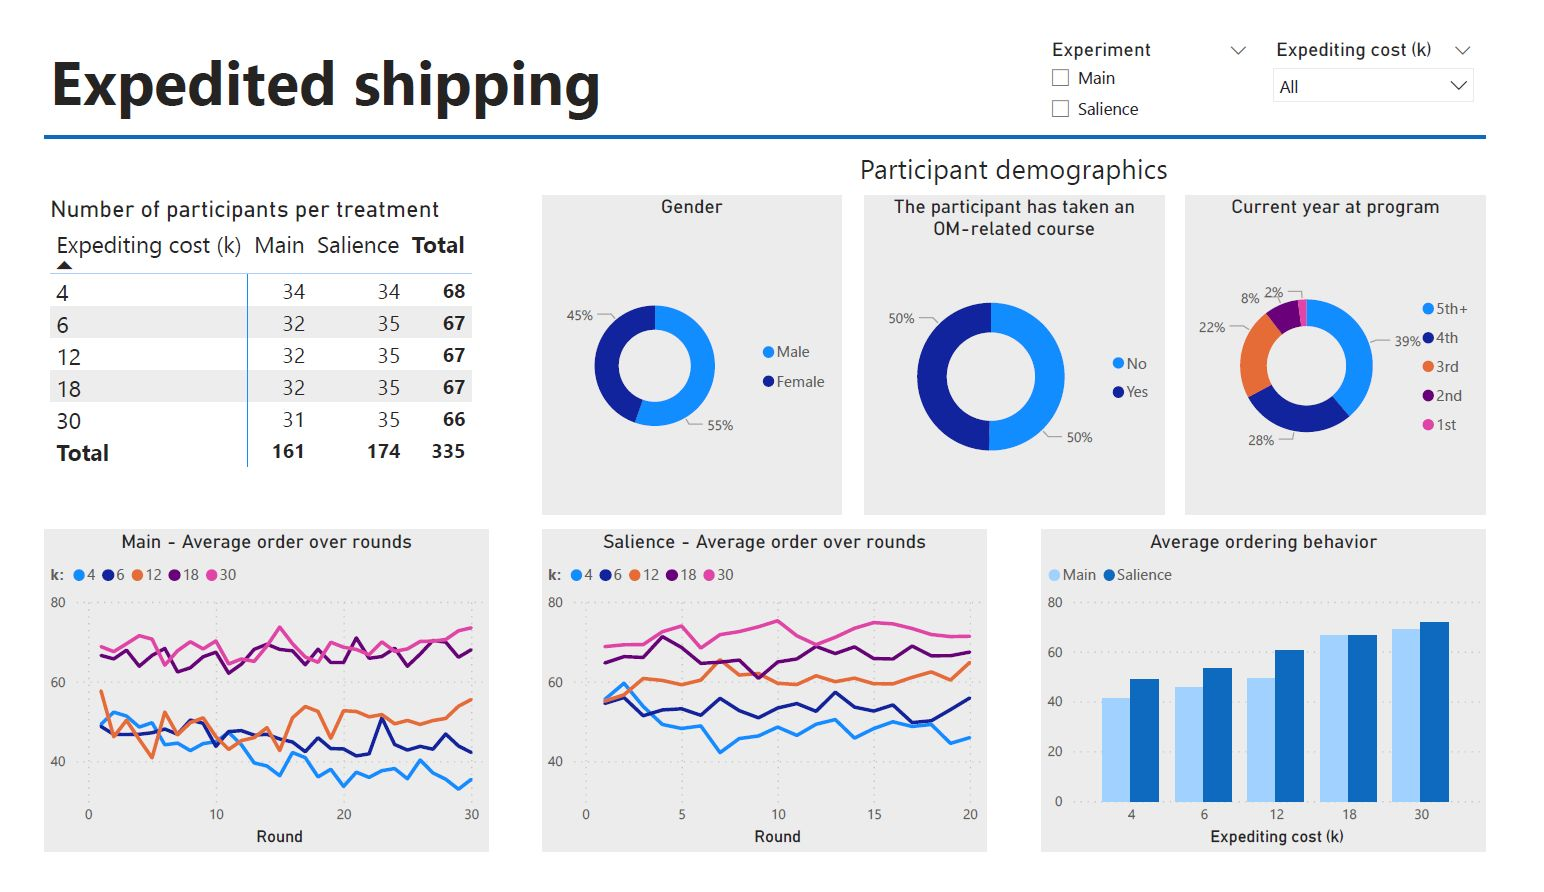

Layout of this report page (visuals, bound fields, positions):
{"tool":"powerbi","page":{"name":"Experiment","canvas":[1280,720],"ordinal":0},"visuals":[{"type":"clusteredColumnChart","title":"Average ordering behavior","fields":{"Category":["treatment.expediting_cost_r"],"Y":["Avg(behavior.order)"],"Series":["treatment.experiment"]},"box":[881.7,439.5,388.7,280.2],"z":0},{"type":"donutChart","title":"Gender","fields":{"Category":["participant.gender"],"Y":["Count(behavior.subject_id_r)"]},"box":[445,145.6,262.3,280.2],"z":1000},{"type":"donutChart","title":"The participant has taken an OM-related course","fields":{"Category":["participant.om_experience"],"Y":["Count(behavior.subject_id_r)"]},"box":[726.5,145.6,262.3,280.2],"z":2000},{"type":"donutChart","title":"Current year at program","fields":{"Y":["Count(behavior.subject_id_r)"],"Category":["participant.seniority"]},"box":[1008.1,145.6,262.3,280.2],"z":3000},{"type":"textbox","box":[9.6,4.1,502.7,81],"z":4000},{"type":"shape","box":[9.6,89.3,1260.8,12.4],"z":5000},{"type":"textbox","box":[445,96.1,825.4,49.4],"z":6000},{"type":"lineChart","title":"Main - Average order over rounds","fields":{"Category":["behavior.round"],"Y":["Avg(behavior.order)"],"Series":["treatment.expediting_cost_r"]},"box":[9.6,439.5,388.7,280.2],"z":7000},{"type":"lineChart","title":"Salience - Average order over rounds","fields":{"Category":["behavior.round"],"Y":["Avg(behavior.order)"],"Series":["treatment.expediting_cost_r"]},"box":[445,439.5,388.7,280.2],"z":8000},{"type":"slicer","fields":{"Values":["treatment.experiment"]},"box":[877.6,4.1,196.4,85.2],"z":9000},{"type":"slicer","fields":{"Values":["treatment.expediting_cost_r"]},"box":[1074,4.1,196.4,85.2],"z":10000},{"type":"pivotTable","title":"Number of participants per treatment","fields":{"Rows":["treatment.expediting_cost_r"],"Columns":["treatment.experiment"],"Values":["Count(behavior.subject_id_r)"]},"box":[9.6,145.6,388.7,280.2],"z":11000}]}

Visuals, with their boxes in screenshot pixels (x1, y1, x2, y2), scaled from the page's 1280x720 canvas onto the 1544x892 screenshot:
"Average ordering behavior" clusteredColumnChart: 1064, 544, 1532, 891
"Gender" donutChart: 537, 180, 853, 528
"The participant has taken an OM-related course" donutChart: 876, 180, 1193, 528
"Current year at program" donutChart: 1216, 180, 1532, 528
textbox: 12, 5, 618, 105
shape: 12, 111, 1532, 126
textbox: 537, 119, 1532, 180
"Main - Average order over rounds" lineChart: 12, 544, 480, 891
"Salience - Average order over rounds" lineChart: 537, 544, 1006, 891
slicer - treatment.experiment: 1059, 5, 1296, 111
slicer - treatment.expediting_cost_r: 1296, 5, 1532, 111
"Number of participants per treatment" pivotTable: 12, 180, 480, 528
